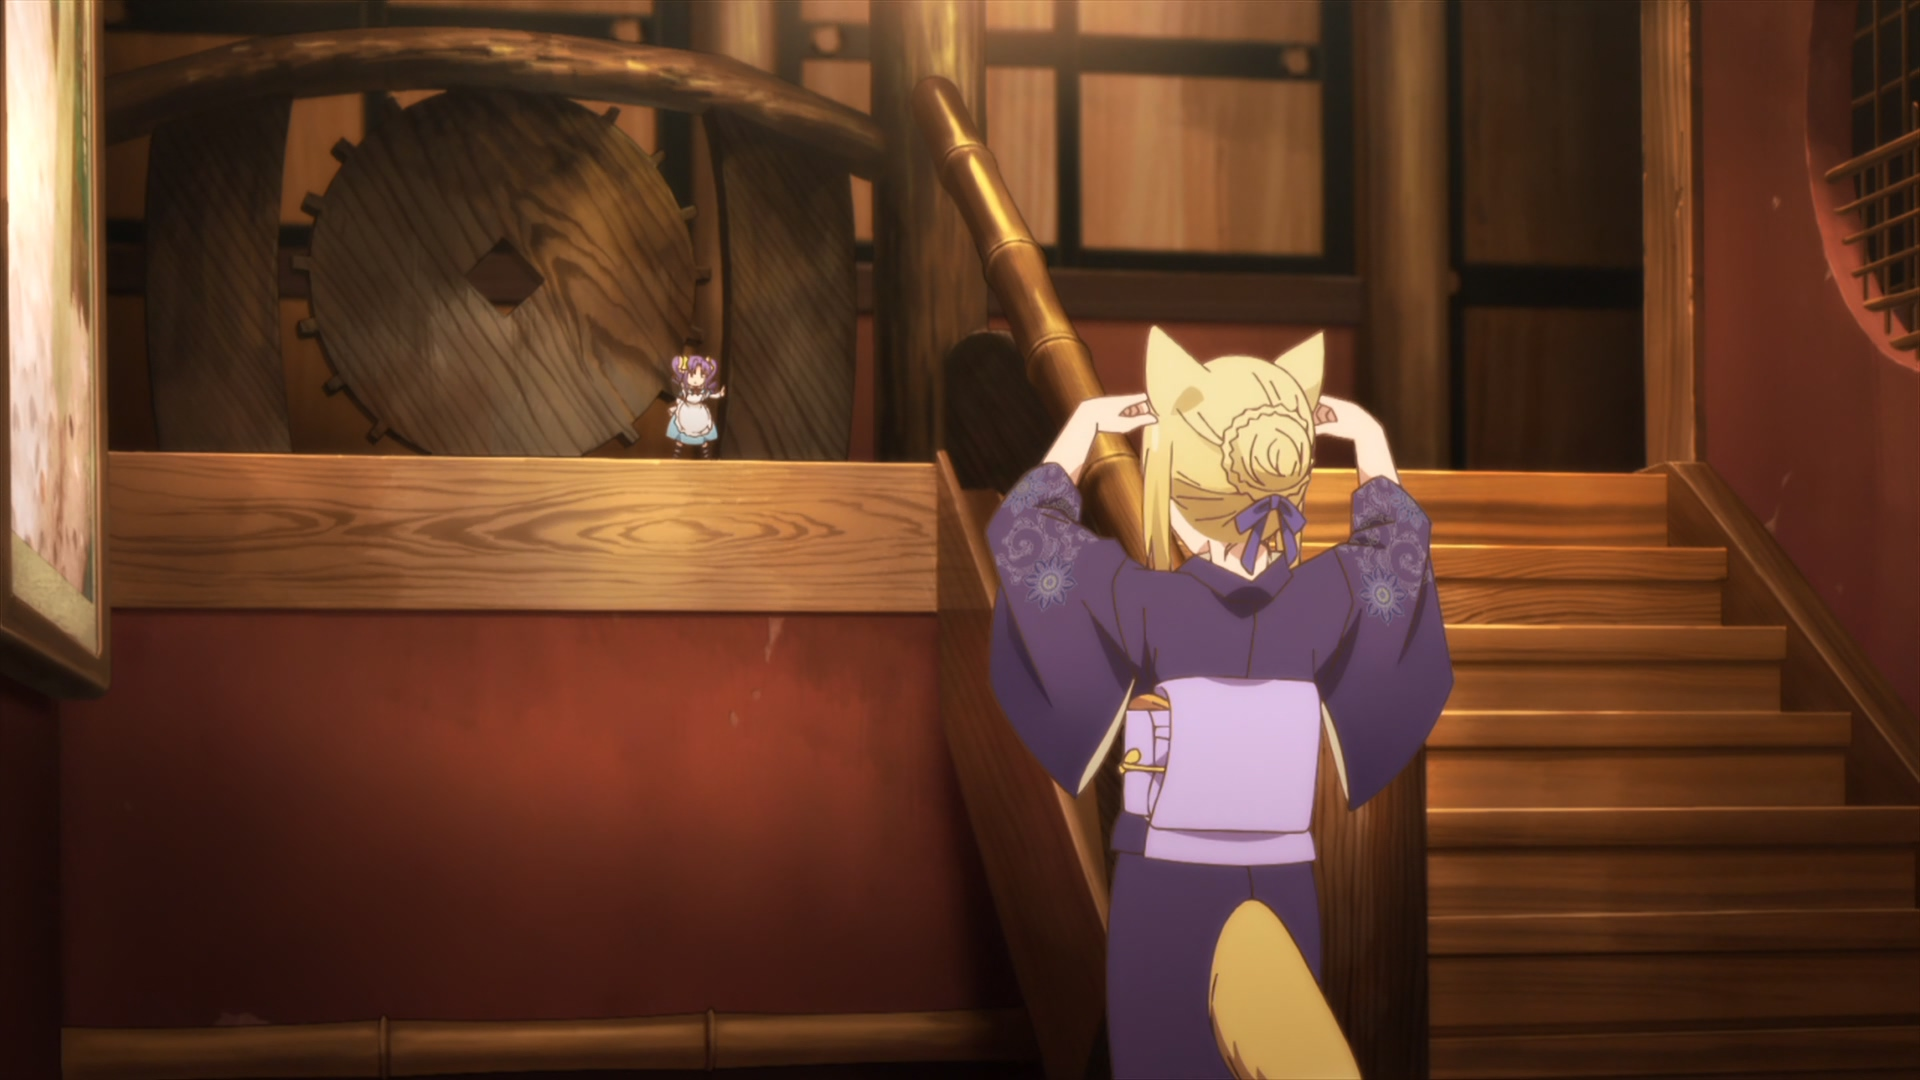桐: (989, 323, 1452, 1080)
阿菊: (666, 353, 725, 460)
